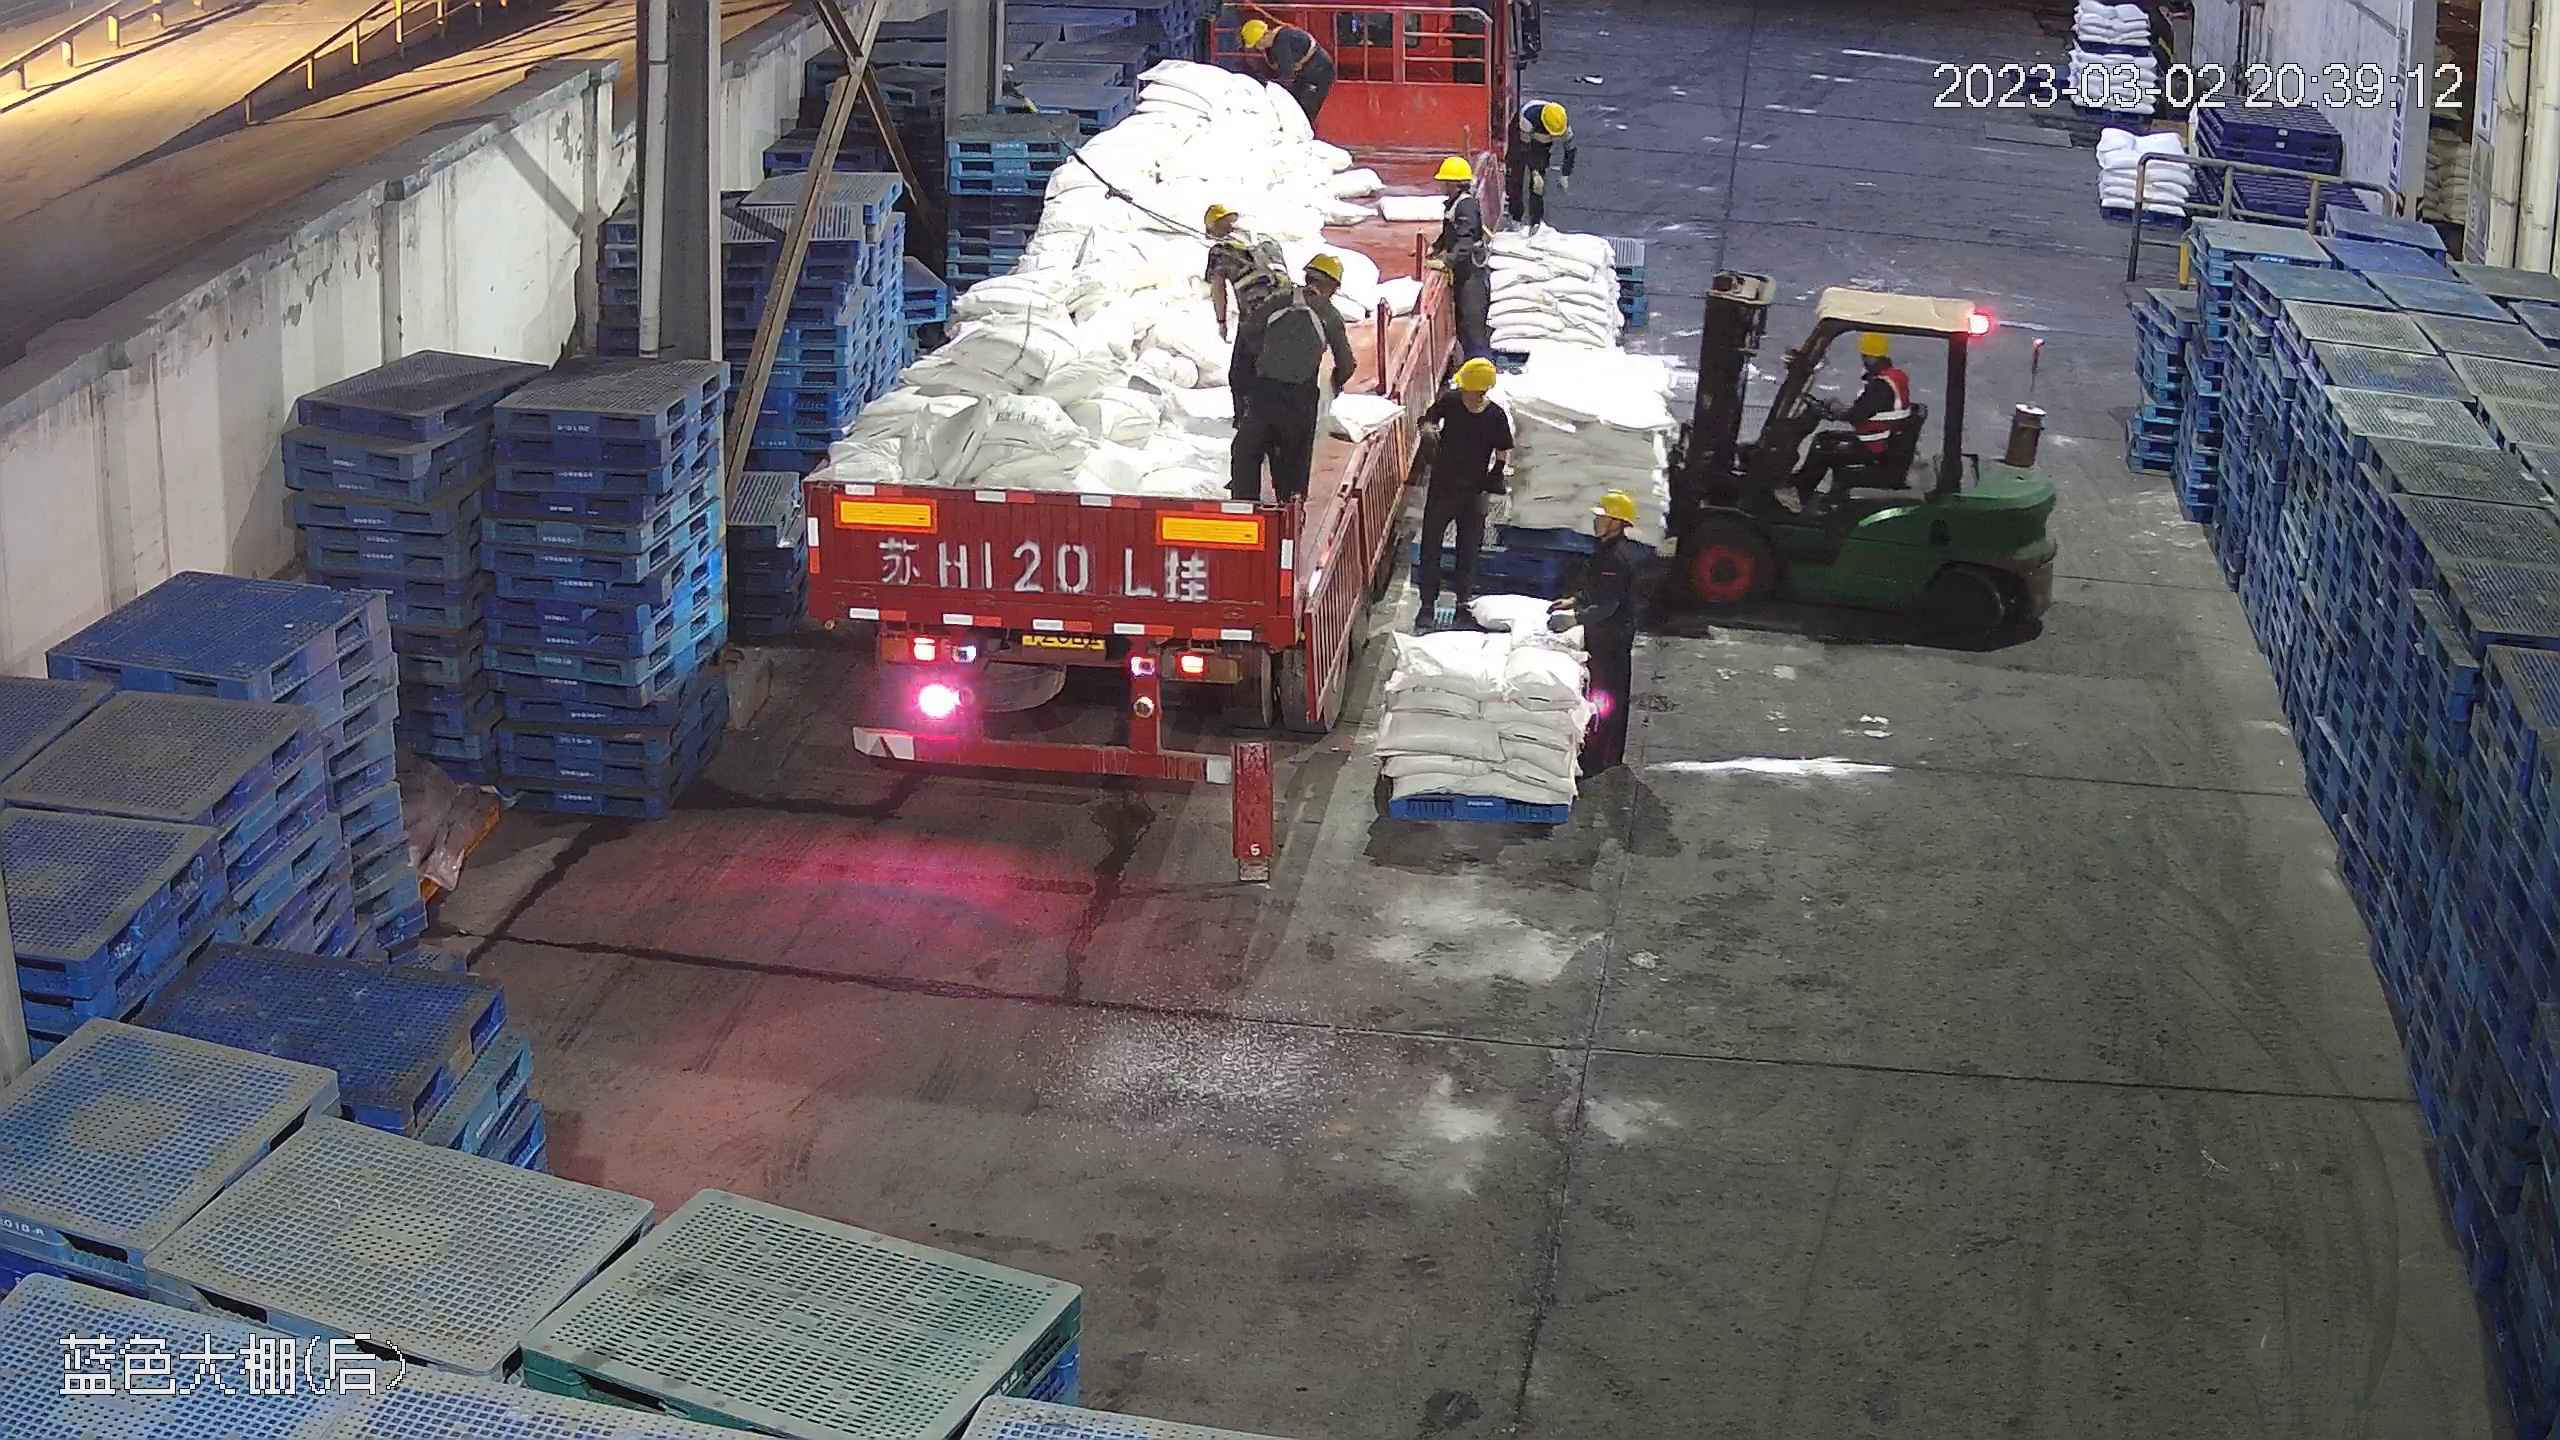belt: (1266, 276, 1329, 344), (1222, 232, 1288, 284), (1267, 17, 1319, 70), (1440, 188, 1474, 225)
head: (1566, 487, 1652, 585), (1256, 248, 1353, 333), (1430, 353, 1513, 445), (1201, 203, 1276, 267), (1850, 329, 1909, 408), (1431, 155, 1487, 229), (1236, 16, 1309, 68), (1516, 101, 1574, 158)
helmet: (1451, 354, 1498, 390), (1301, 251, 1349, 288), (1593, 487, 1638, 524), (1201, 203, 1241, 232), (1536, 101, 1570, 136), (1854, 330, 1891, 358), (1239, 16, 1272, 50), (1433, 154, 1475, 180)
people: (1217, 240, 1354, 553), (1551, 483, 1657, 781), (1411, 355, 1516, 630), (1784, 328, 1913, 513), (1426, 149, 1502, 361), (1505, 100, 1576, 245)
truck: (793, 8, 1518, 787)
